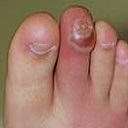Cellulitis: (71, 30, 97, 50)
